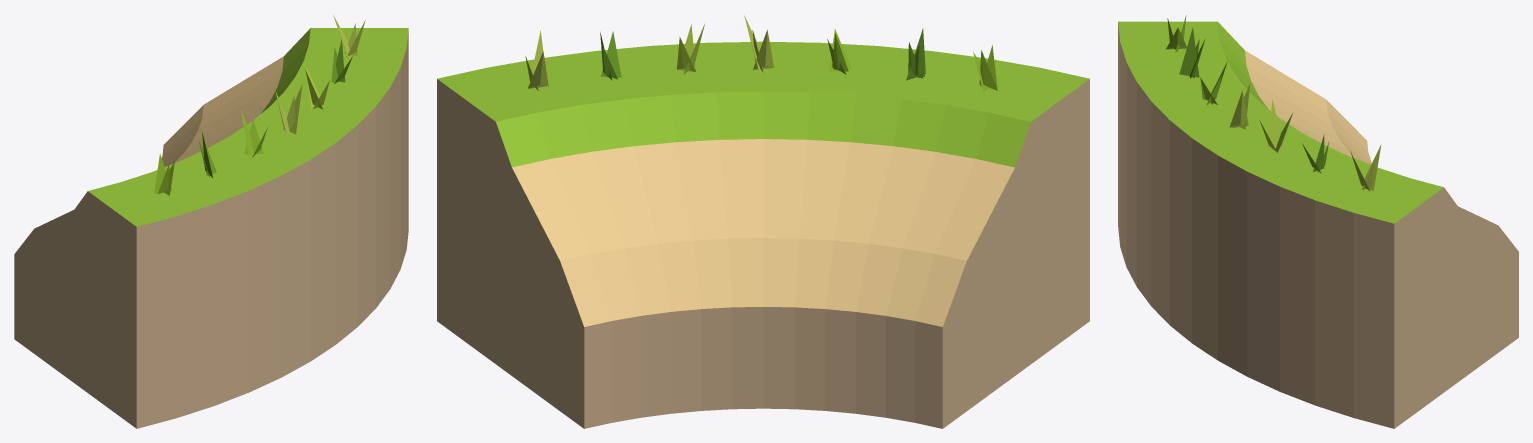
Rendered from margem-concava.glb.
The picture shows the model from 3 angles, left to right: view 1: azimuth 30°, elevation 25°; view 2: azimuth 150°, elevation 25°; view 3: azimuth 270°, elevation 25°; orthographic projection. The views are drawn at different scales.
Parts seen in each view (by area): view 1: margem-concava; view 2: margem-concava; view 3: margem-concava.
Part boxes in pixels (left/top/right/bottom): margem-concava: left=14, top=15, right=408, bottom=428; margem-concava: left=437, top=15, right=1089, bottom=428; margem-concava: left=1118, top=15, right=1518, bottom=428.
Bounding box in the file's own units: 1.06 × 0.6101 × 0.885.
